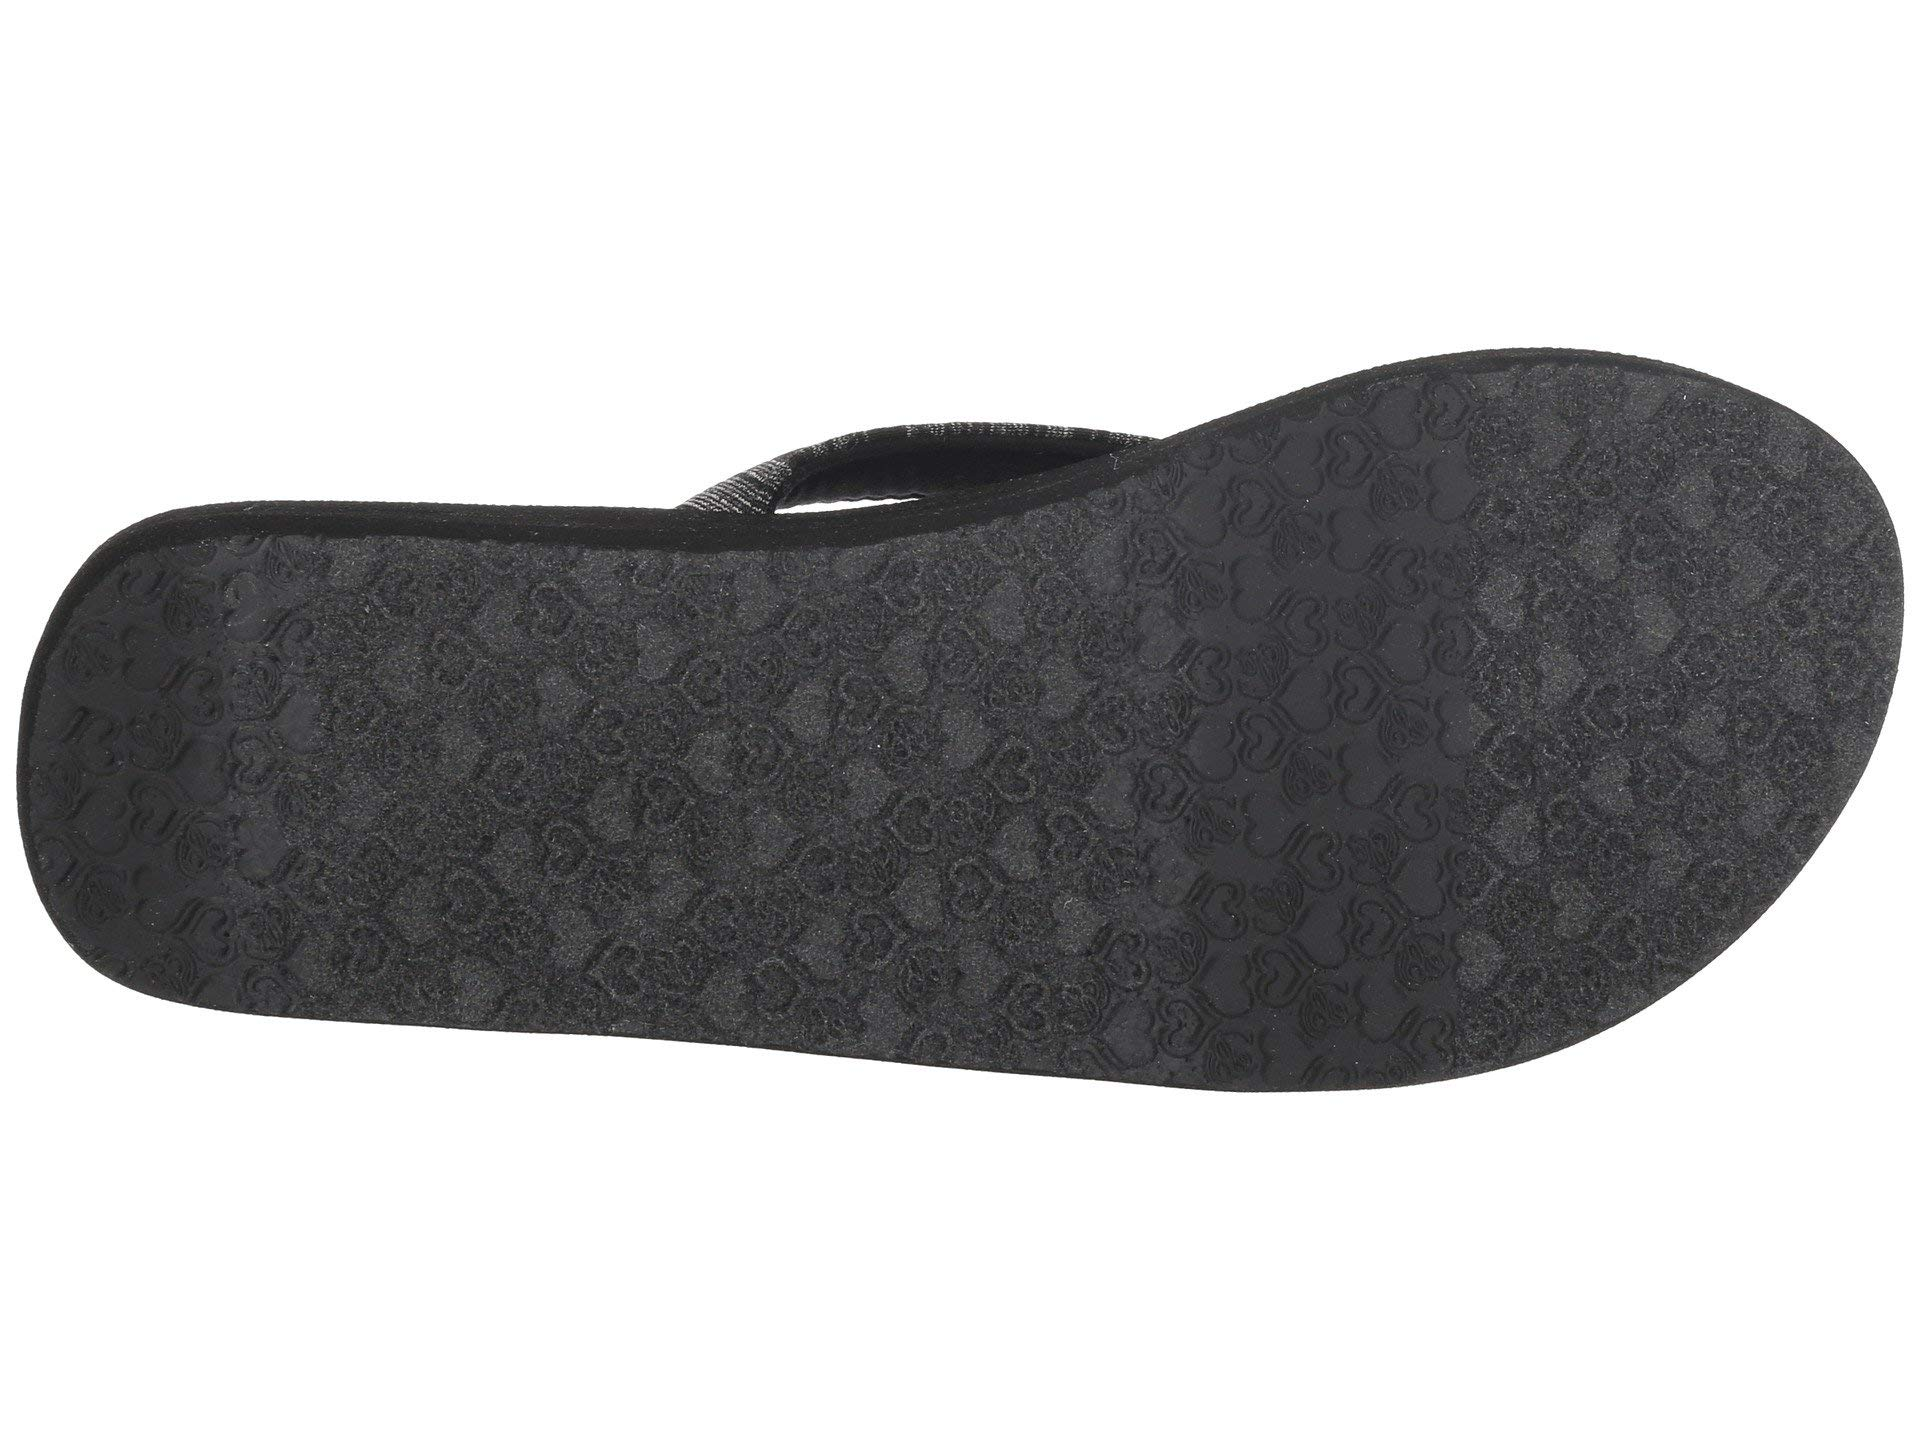other: (197, 569, 1751, 917)
